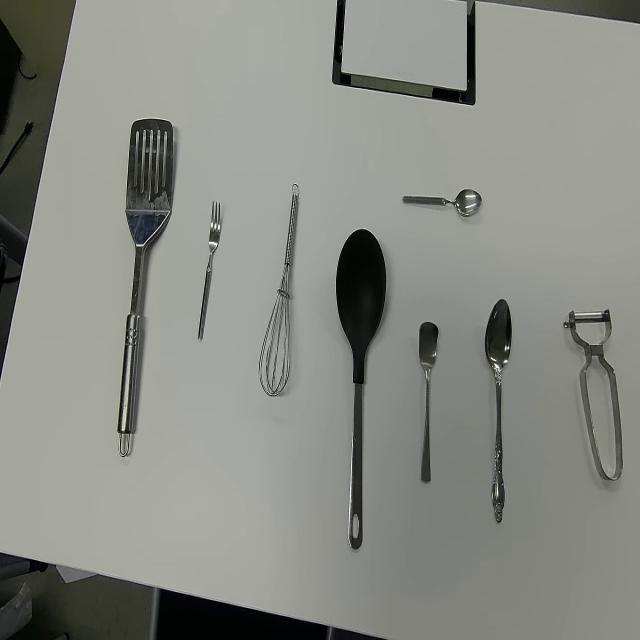Desert-Spoon: (484, 297, 513, 528)
Dinner-Fork: (197, 198, 222, 344)
Peeler: (562, 307, 624, 484)
Serving-Spoon: (115, 116, 174, 460), (335, 227, 388, 555)
Tea-Spoon: (418, 319, 439, 486), (401, 188, 484, 221)
Whisk: (257, 183, 300, 399)
